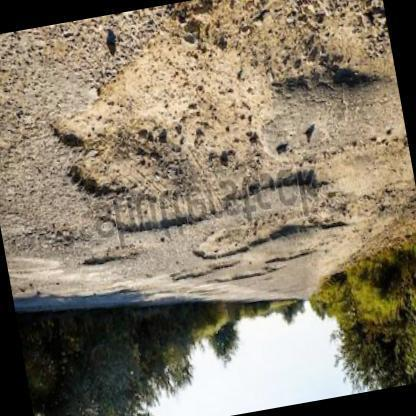pothole: (51, 0, 406, 202), (95, 176, 352, 260), (84, 245, 146, 267)
